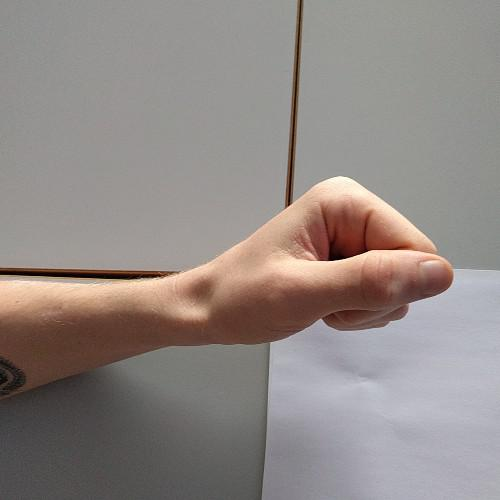rock: (185, 170, 462, 360)
